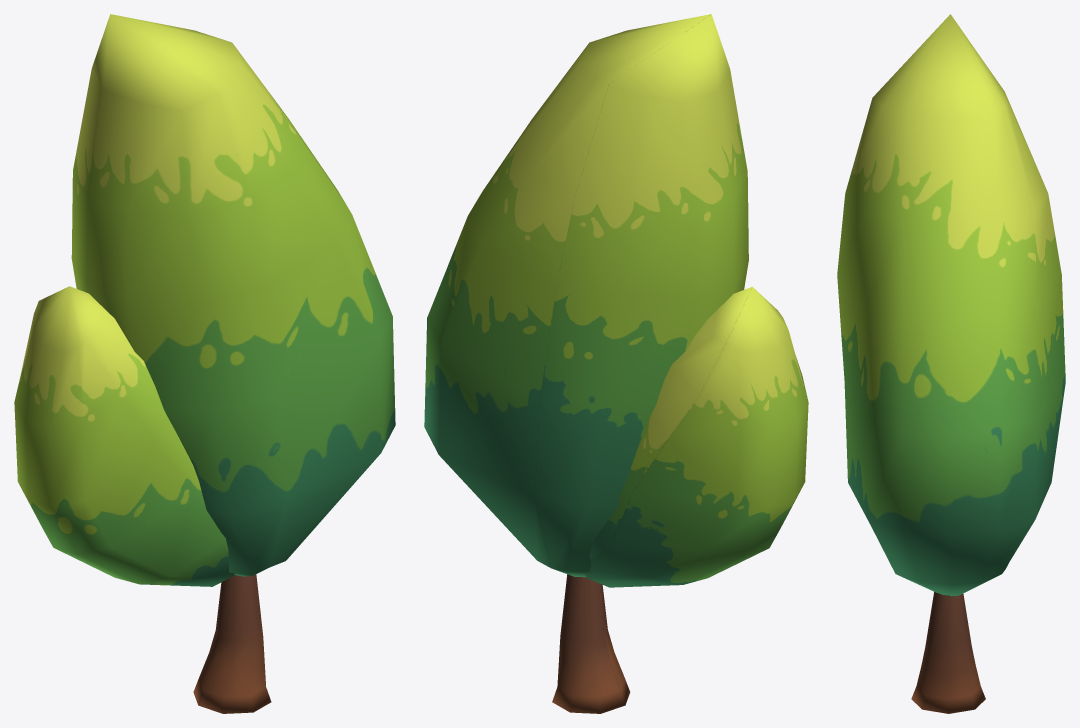
The model's file is Tree_Green2.fbx.
The picture shows the model from 3 angles, left to right: view 1: azimuth 30°, elevation 25°; view 2: azimuth 150°, elevation 25°; view 3: azimuth 270°, elevation 25°; orthographic projection. The views are drawn at different scales.
Parts seen in each view (by area): view 1: polySurface36; view 2: polySurface36; view 3: polySurface36.
Boxes of the visible parts, box(x1,y1,x2,y2) form: polySurface36: box(14, 14, 395, 713); polySurface36: box(424, 14, 808, 713); polySurface36: box(837, 14, 1065, 713).
Bounding box in the file's own units: 3.58 × 6.83 × 2.24.
